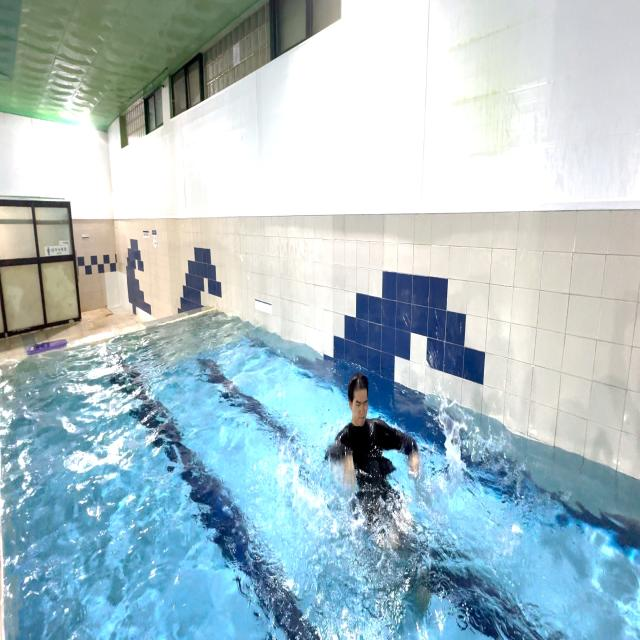Swimming: (320, 360, 440, 519)
